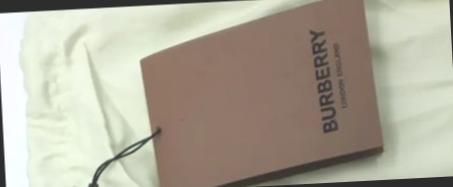BURBERRY: (308, 27, 336, 134)
